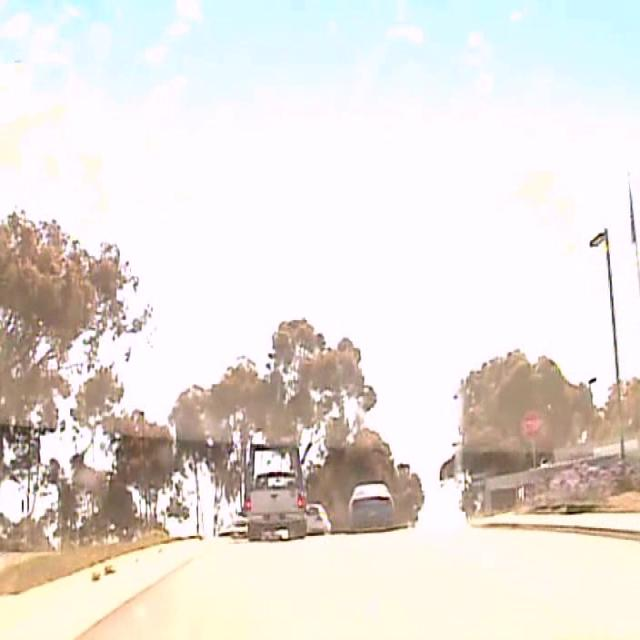stop: (519, 409, 542, 440)
